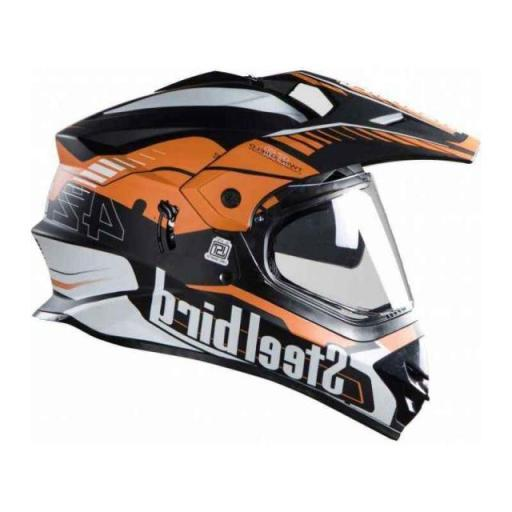Helmet: (33, 72, 478, 438)
